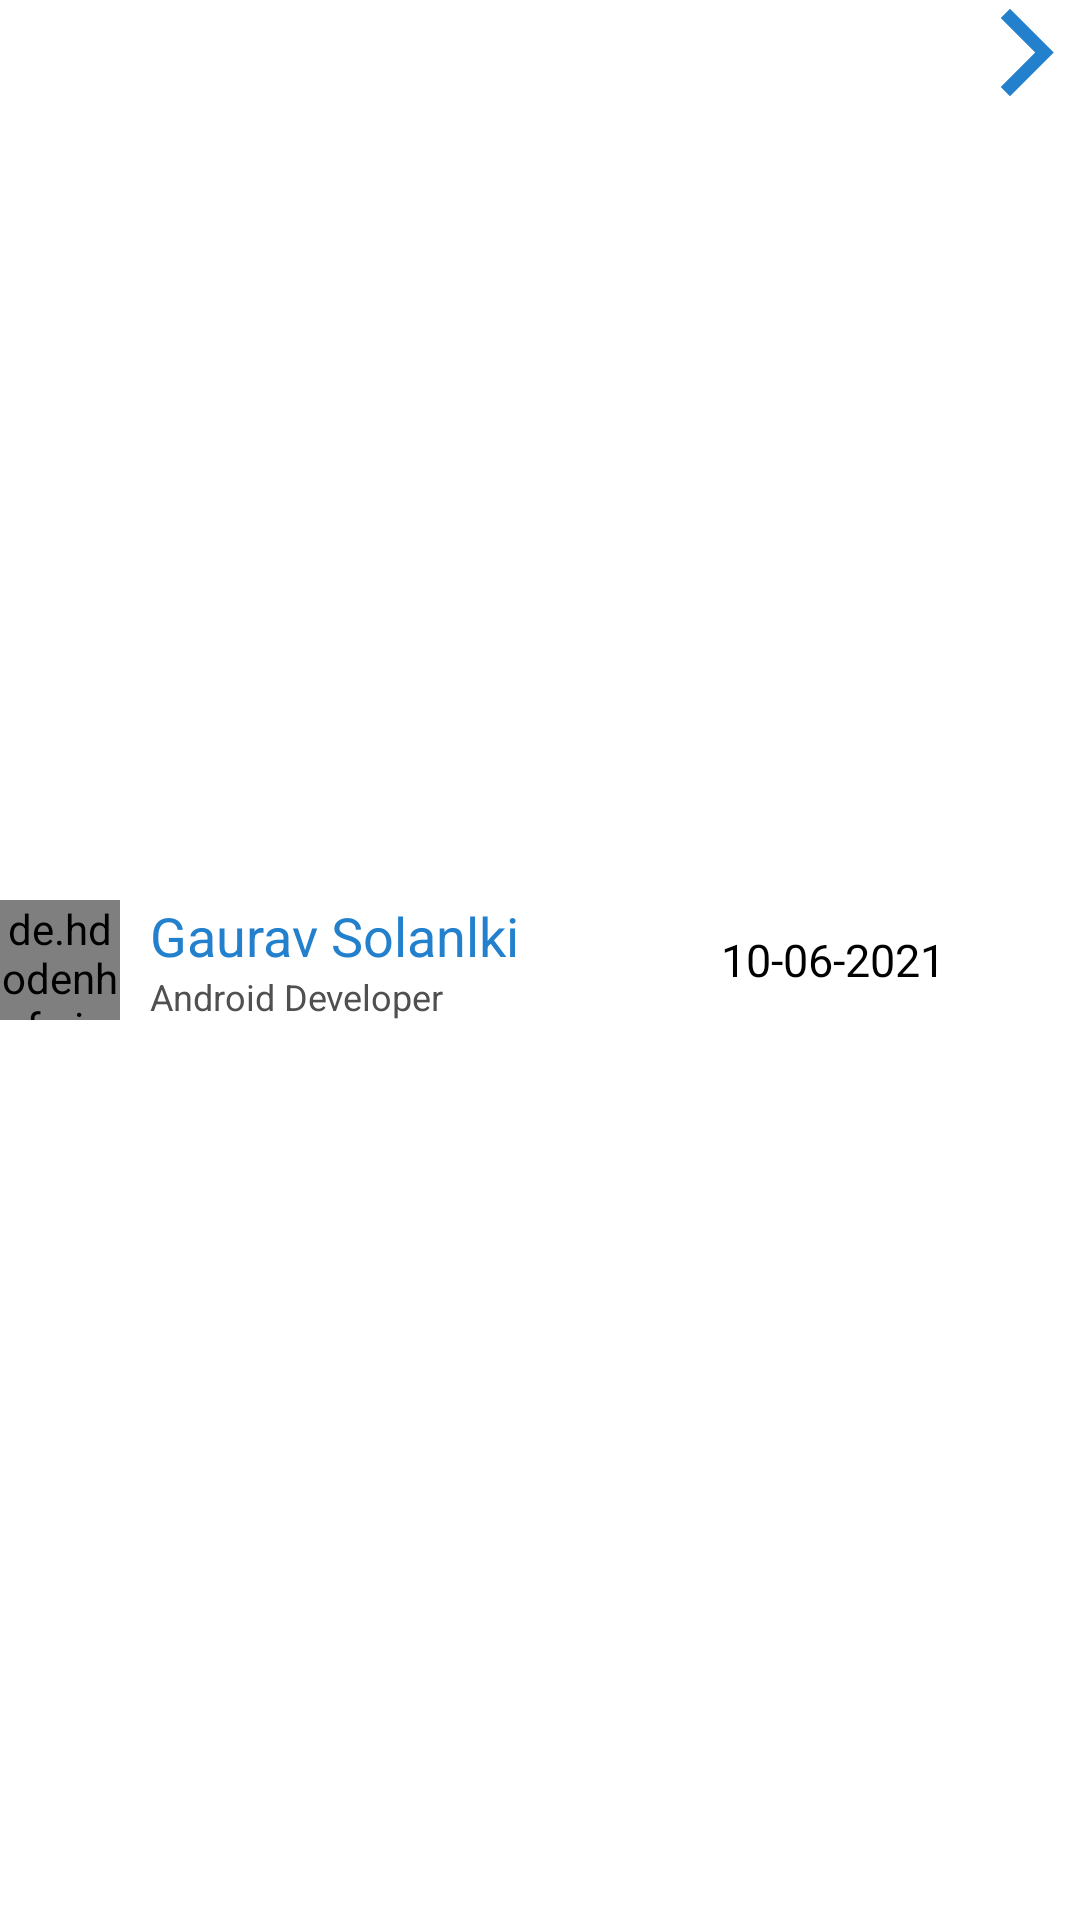

Point at icon controls on the screen. Image size 1080*1920, points as (x=x, y=y).
arrow forward: (x=1027, y=52)
